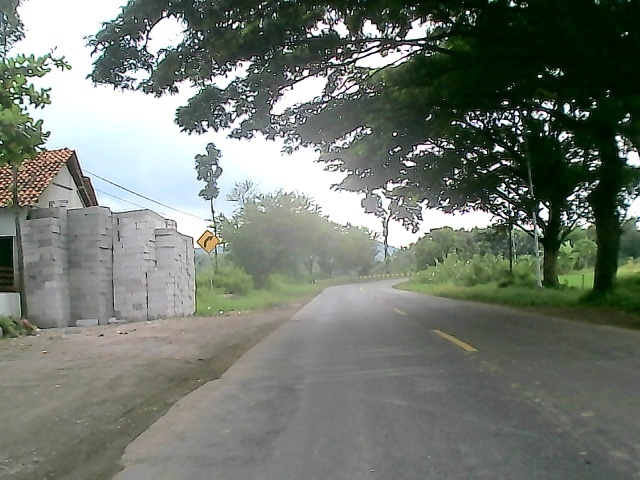Tikungan ke kanan: (195, 229, 222, 254)
